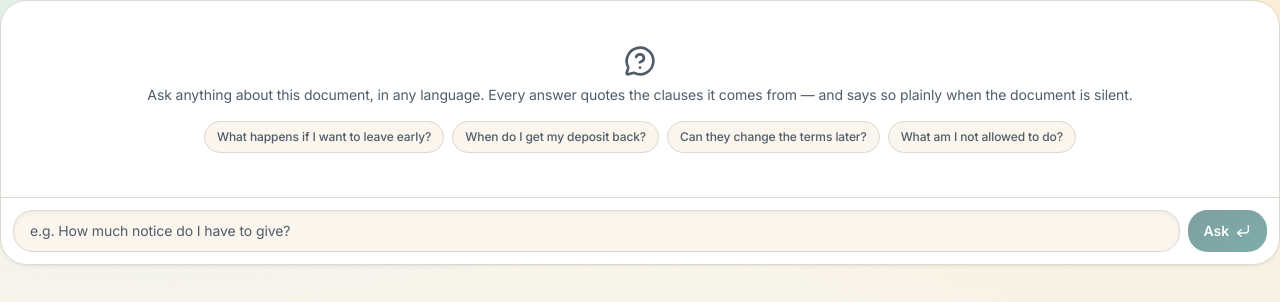
AskPanel › shows a server error inside the conversation
The width and height of the screenshot is (1280, 302).
Type "Can I leave?" into the field at [596, 231], box left=13, top=210, right=1180, bottom=252
Then press Enter
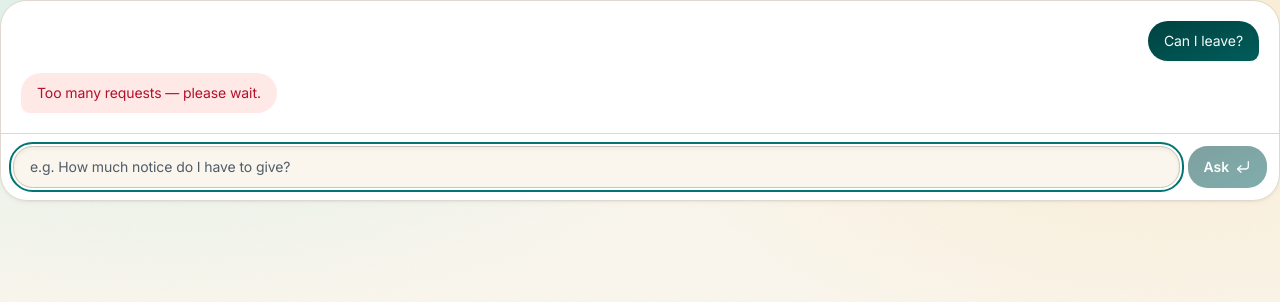
Expected: the text "Too many requests — please wait." is shown, left=21, top=73, right=277, bottom=113
